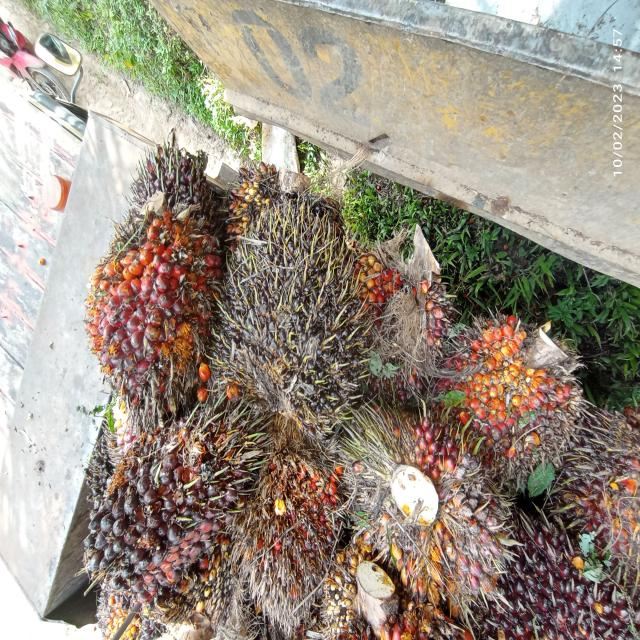fraksi 00: (51, 394, 276, 608), (206, 190, 384, 431)
fraksi 1: (430, 302, 611, 493)
fraksi 3: (69, 196, 247, 458)
fraksi 4: (226, 452, 344, 626)
